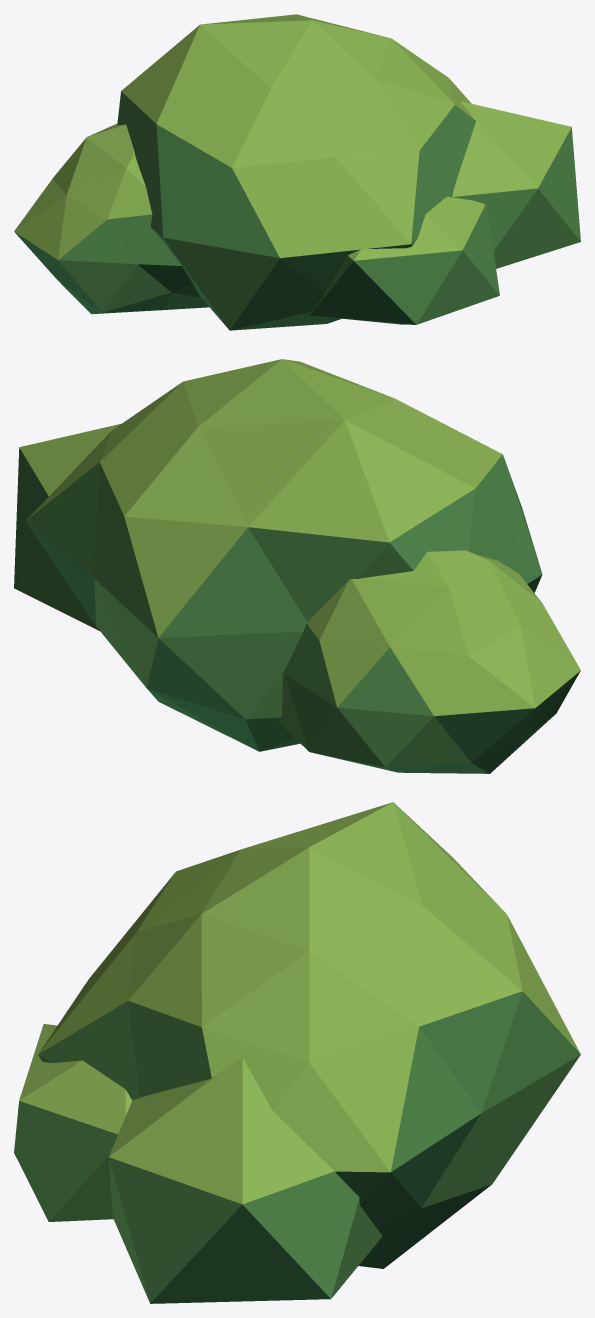
File: bush_a.glb
3 views of the same model, one above another, from view 1: azimuth 30°, elevation 25°; view 2: azimuth 150°, elevation 25°; view 3: azimuth 270°, elevation 25° (orthographic). The views are drawn at different scales.
Parts seen in each view (by area): view 1: Body; view 2: Body; view 3: Body.
Part boxes in pixels (box(x1,y1,x2,y2)): Body: box(14, 14, 580, 330); Body: box(14, 359, 580, 773); Body: box(14, 802, 580, 1303).
Size of the model in its own units: 2.3 by 1.24 by 1.7.
